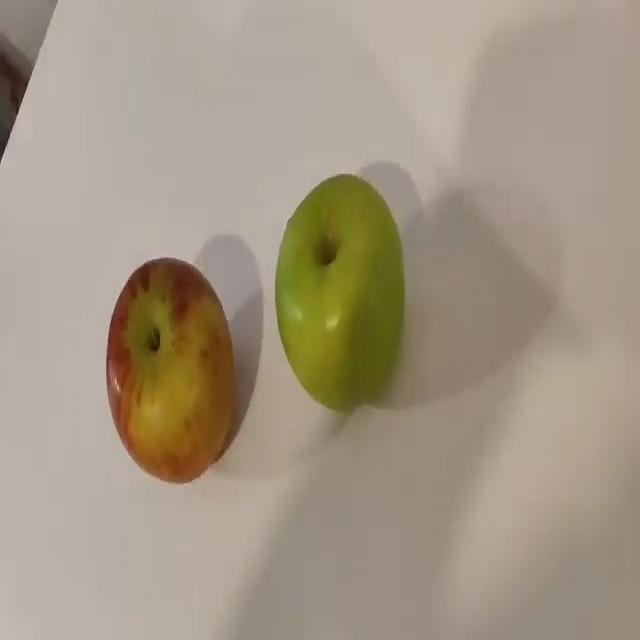Apple: (273, 172, 405, 412), (105, 256, 237, 483)
